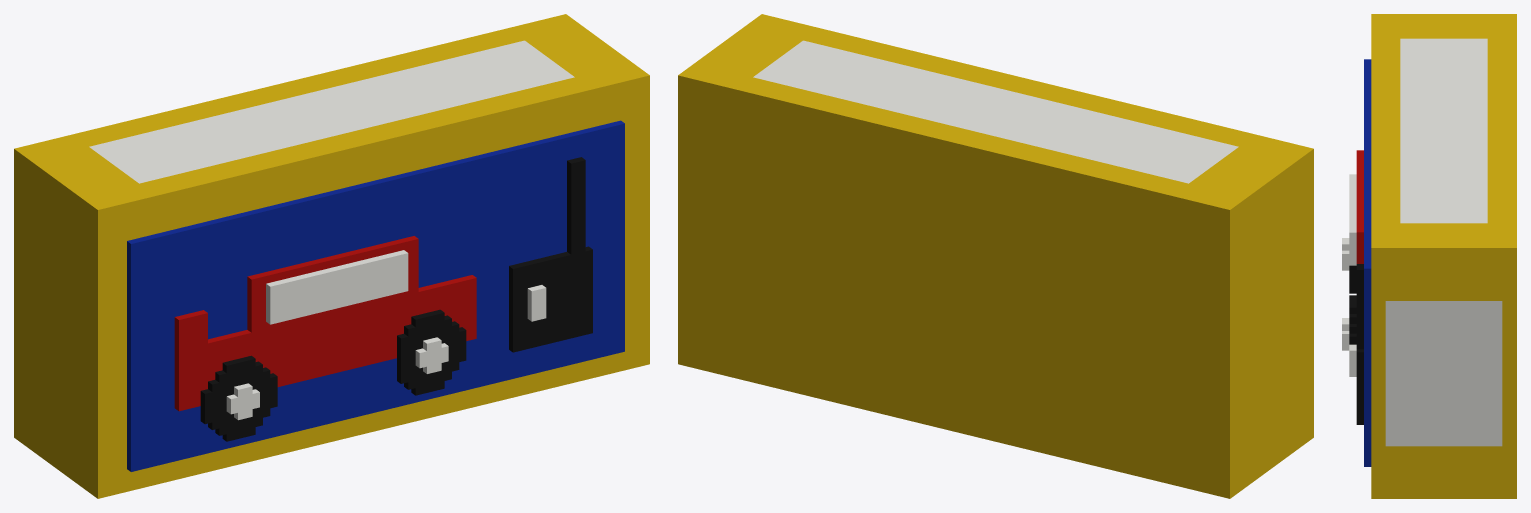
The model's file is rc_car_box.glb.
3 views of the same model, side by side, from view 1: azimuth 30°, elevation 25°; view 2: azimuth 150°, elevation 25°; view 3: azimuth 270°, elevation 25° (orthographic). The views are drawn at different scales.
Parts seen in each view (by area): view 1: rc_car_box:compound; view 2: rc_car_box:compound; view 3: rc_car_box:compound.
Part boxes in pixels (x1=…): rc_car_box:compound: x1=14, y1=14, x2=649, y2=498; rc_car_box:compound: x1=678, y1=14, x2=1313, y2=498; rc_car_box:compound: x1=1342, y1=14, x2=1516, y2=498.
Bounding box in the file's own units: 0.304 × 0.152 × 0.096.
